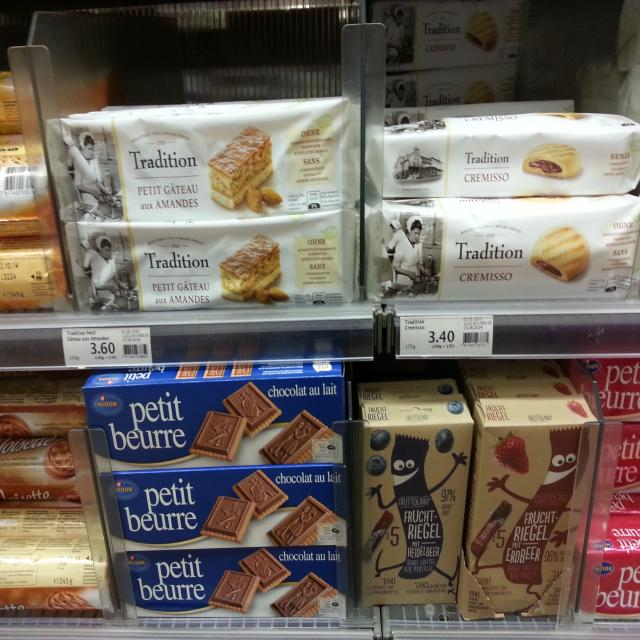Biscuits: (47, 101, 360, 220), (362, 197, 640, 310), (458, 399, 600, 619), (82, 360, 342, 476), (61, 210, 351, 308), (356, 397, 473, 609), (361, 111, 640, 198), (95, 467, 348, 552), (106, 548, 349, 617), (0, 534, 117, 612)
